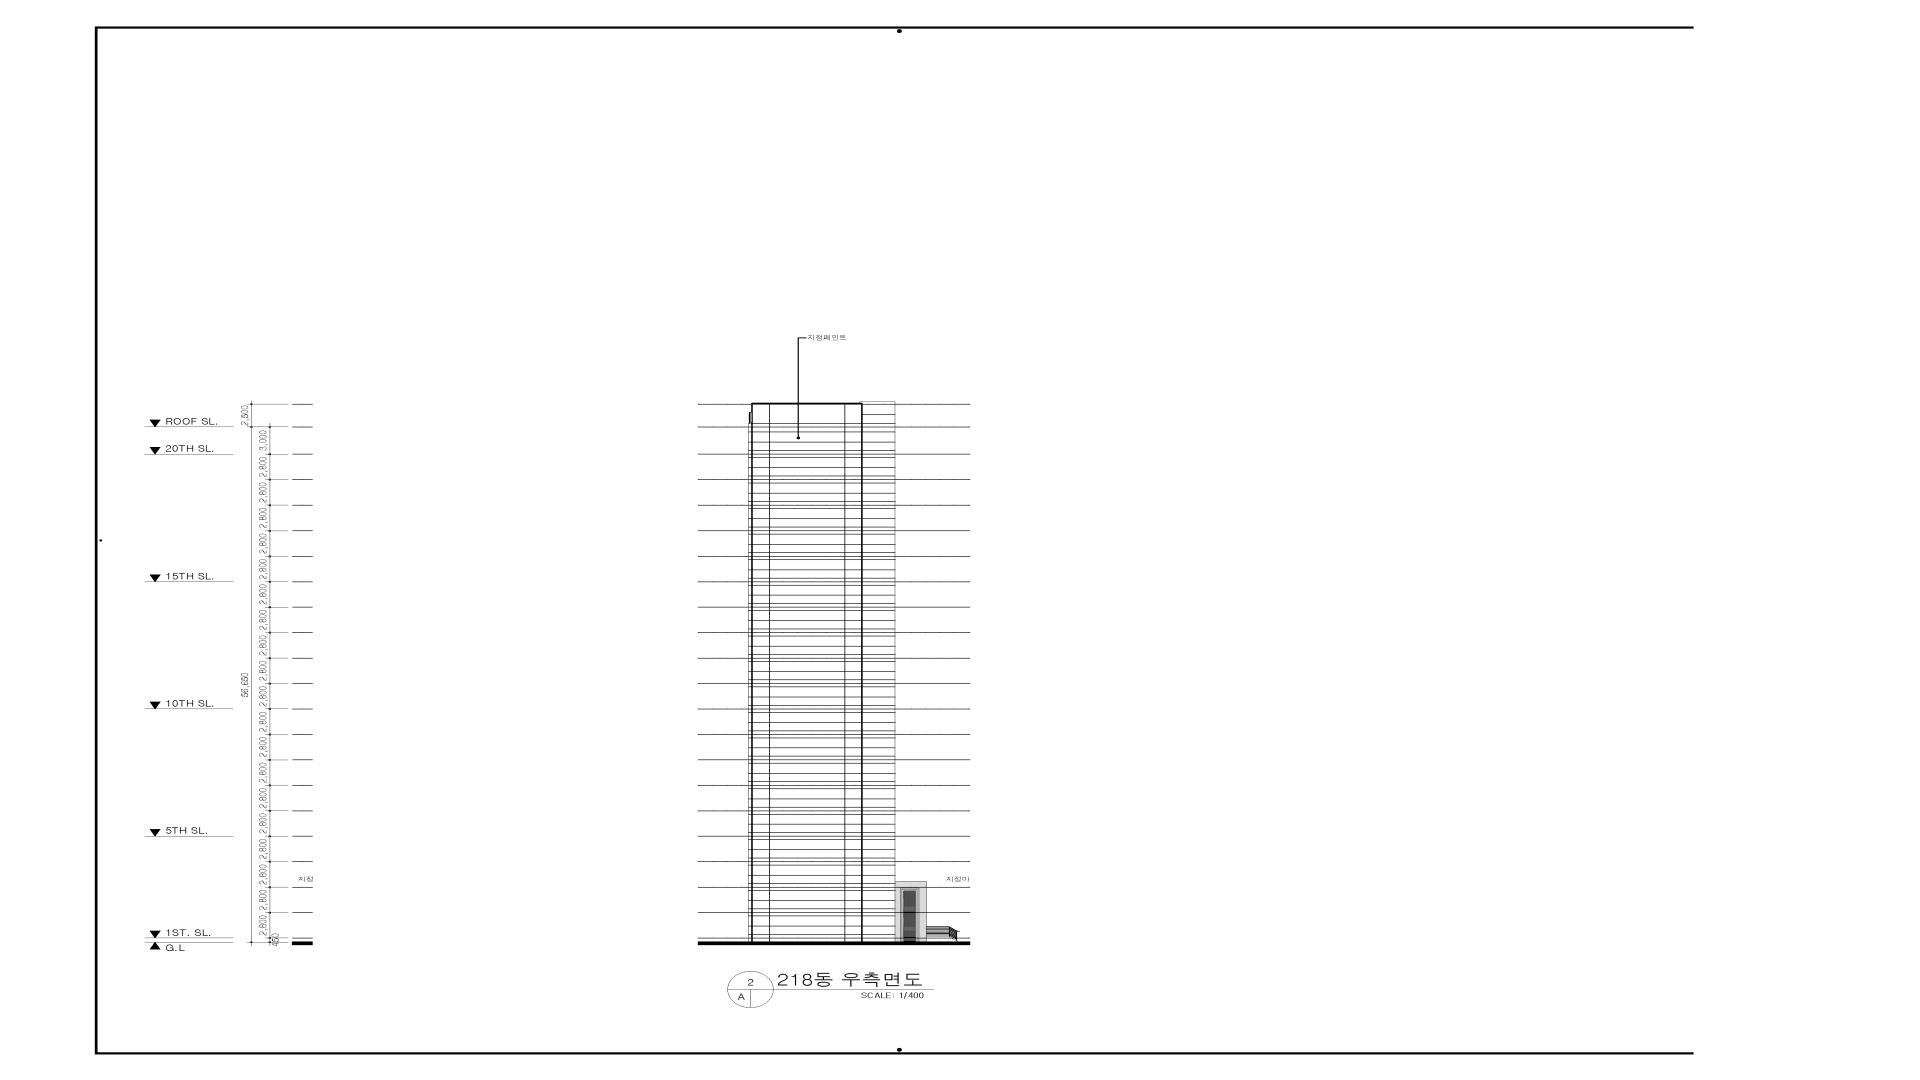wall: (748, 401, 927, 942)
window: (904, 891, 916, 942)
